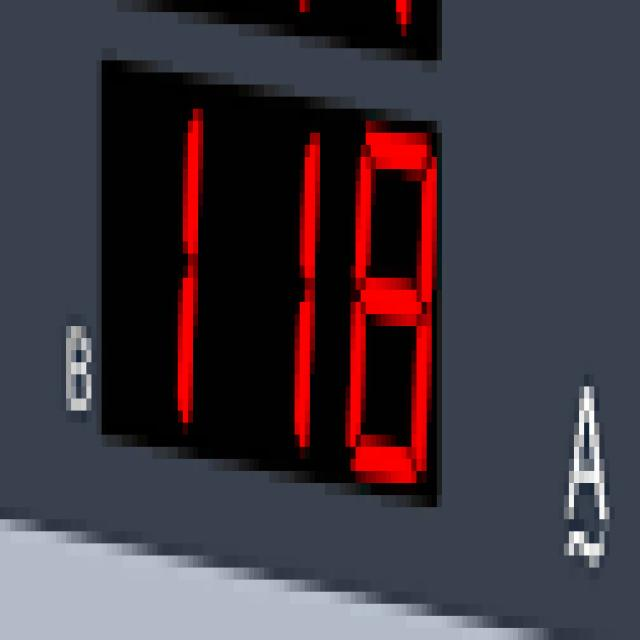1: (146, 62, 223, 452), (278, 102, 330, 469)
8: (345, 102, 447, 512)
screen: (98, 54, 453, 519)
